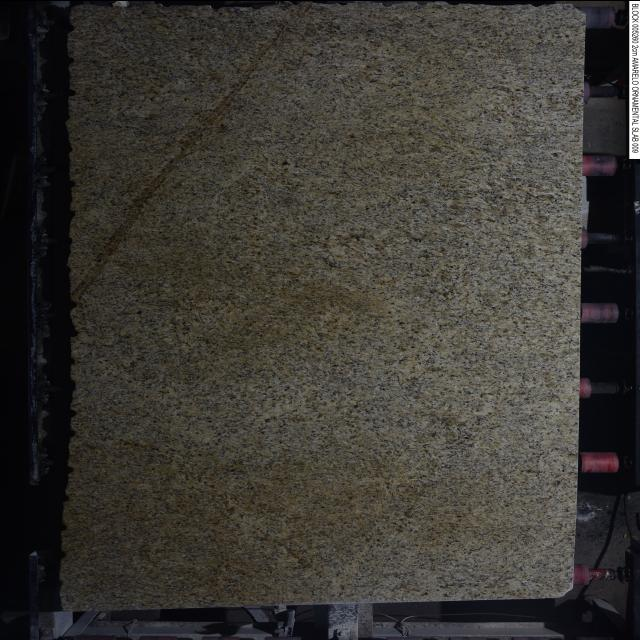chapa: (59, 2, 582, 609)
veio: (66, 298, 80, 314), (68, 86, 78, 96), (70, 328, 80, 338)
